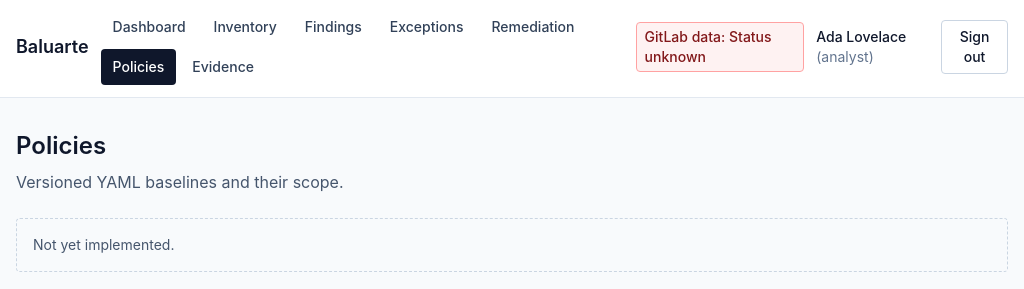
account menu › reports a failed sign-out and stays signed in
The image size is (1024, 289).
Step 1. Click the button "Sign out" → [974, 47], box [941,20,1008,74]
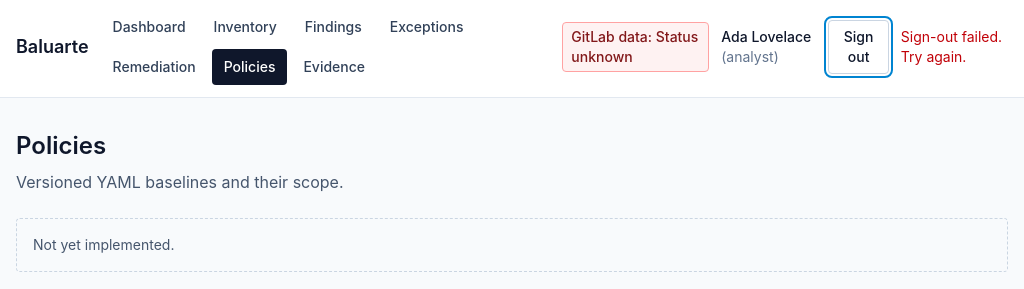
Expected: the navigation bar named "Primary" is shown, [113,18,464,85]
Expected: the message shows "Sign-out failed", [901,28,1002,65]
